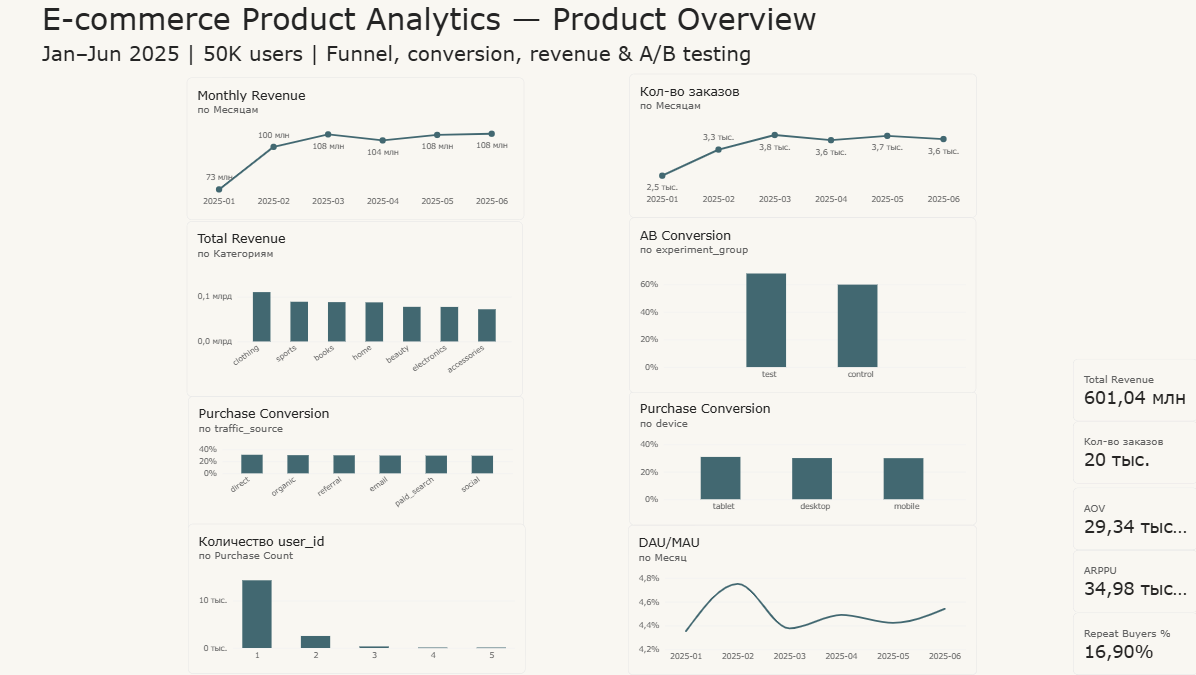

The dashboard page shown, as its layout file describes it:
{"tool":"powerbi","page":{"name":"Product Overview","canvas":[1920,1080],"ordinal":0},"visuals":[{"type":"cardVisual","fields":{"Data":["public orders.Total Revenue"]},"box":[1720,574.9,200,100],"z":0},{"type":"cardVisual","fields":{"Data":["public orders.Кол-во заказов"]},"box":[1720,674.9,200,100],"z":1000},{"type":"cardVisual","fields":{"Data":["public orders.Мера 3"]},"box":[1719.6,780,200,100],"z":2000},{"type":"cardVisual","fields":{"Data":["public orders.ARPPU"]},"box":[1719.6,880,200,100],"z":3000},{"type":"cardVisual","fields":{"Data":["public orders.Repeat Buyers %"]},"box":[1719.6,980,200,100],"z":4000},{"type":"lineChart","fields":{"Category":["public orders.Месяц"],"Y":["public orders.Total Revenue"]},"box":[301.9,124.4,540,228],"z":5000},{"type":"lineChart","fields":{"Category":["public orders.Месяц"],"Y":["public orders.Кол-во заказов"]},"box":[1010.4,118,556,230],"z":6000},{"type":"columnChart","fields":{"Category":["public products.Категория"],"Y":["public orders.Total Revenue"]},"box":[301.9,354.4,537.5,280.5],"z":7000},{"type":"columnChart","fields":{"Category":["public users.device"],"Y":["public events.Purchase Conversion"]},"box":[1010.4,626.8,556,214],"z":8000},{"type":"columnChart","fields":{"Category":["public users.experiment_group"],"Y":["public events.AB Conversion"]},"box":[1010.9,347.1,555.6,280.5],"z":9000},{"type":"columnChart","fields":{"Category":["public users.traffic_source"],"Y":["public events.Purchase Conversion"]},"box":[303.9,634.4,537.5,213.5],"z":10000},{"type":"columnChart","fields":{"Category":["User Purchases.Purchase Count"],"Y":["CountNonNull(User Purchases.user_id)"]},"box":[303.1,838.4,540,240],"z":11000},{"type":"lineChart","fields":{"Category":["public events.Месяц"],"Y":["public events.DAU MAU Correct"]},"box":[1008.8,840,558,240],"z":12000},{"type":"textbox","box":[70,0,1306,66],"z":12001},{"type":"textbox","box":[70,66,1232,52],"z":12002}]}

Visuals, with their boxes in screenshot pixels (x1, y1, x2, y2), scaled from the page's 1920x1080 canvas onto the 1196x675 screenshot:
cardVisual - public orders.Total Revenue: {"x1": 1071, "y1": 359, "x2": 1195, "y2": 422}
cardVisual - public orders.Кол-во заказов: {"x1": 1071, "y1": 422, "x2": 1195, "y2": 484}
cardVisual - public orders.Мера 3: {"x1": 1071, "y1": 488, "x2": 1195, "y2": 550}
cardVisual - public orders.ARPPU: {"x1": 1071, "y1": 550, "x2": 1195, "y2": 612}
cardVisual - public orders.Repeat Buyers %: {"x1": 1071, "y1": 612, "x2": 1195, "y2": 674}
lineChart - public orders.Месяц x public orders.Total Revenue: {"x1": 188, "y1": 78, "x2": 524, "y2": 220}
lineChart - public orders.Месяц x public orders.Кол-во заказов: {"x1": 629, "y1": 74, "x2": 976, "y2": 218}
columnChart - public products.Категория x public orders.Total Revenue: {"x1": 188, "y1": 222, "x2": 523, "y2": 397}
columnChart - public users.device x public events.Purchase Conversion: {"x1": 629, "y1": 392, "x2": 976, "y2": 526}
columnChart - public users.experiment_group x public events.AB Conversion: {"x1": 630, "y1": 217, "x2": 976, "y2": 392}
columnChart - public users.traffic_source x public events.Purchase Conversion: {"x1": 189, "y1": 396, "x2": 524, "y2": 530}
columnChart - User Purchases.Purchase Count x CountNonNull(User Purchases.user_id): {"x1": 189, "y1": 524, "x2": 525, "y2": 674}
lineChart - public events.Месяц x public events.DAU MAU Correct: {"x1": 628, "y1": 525, "x2": 976, "y2": 674}
textbox: {"x1": 44, "y1": 0, "x2": 857, "y2": 41}
textbox: {"x1": 44, "y1": 41, "x2": 811, "y2": 74}
